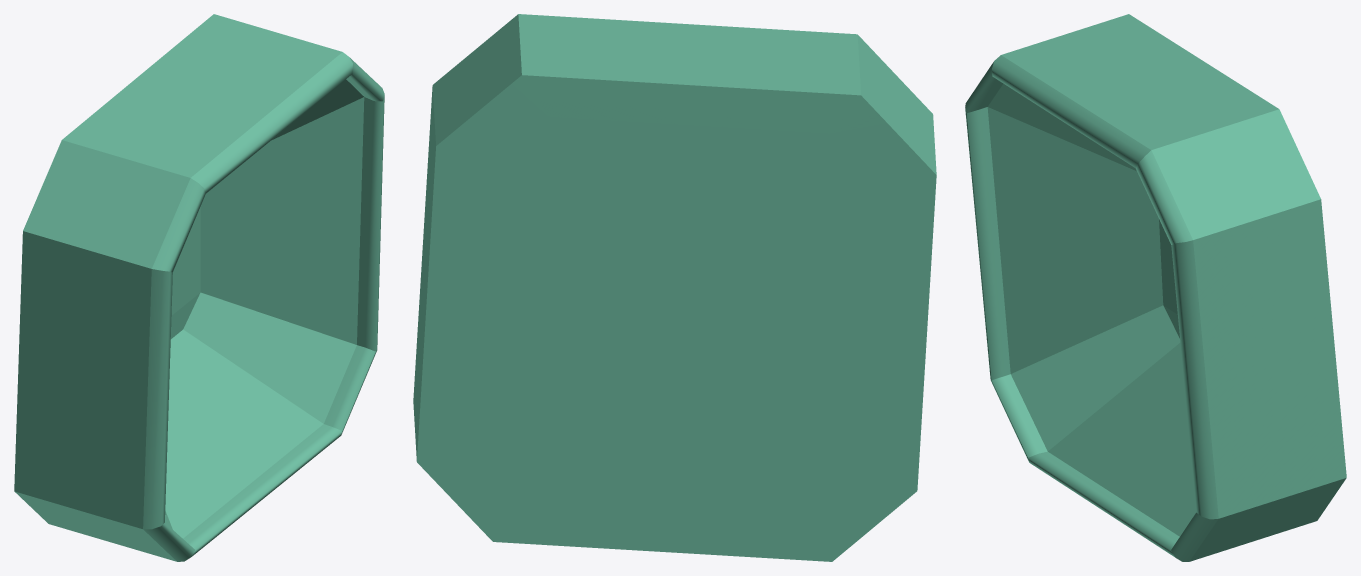
The model's file is TR2_8shapes_Square_Classic_Metal.001 3.glb.
3 views of the same model, side by side, from view 1: azimuth 30°, elevation 25°; view 2: azimuth 150°, elevation 25°; view 3: azimuth 270°, elevation 25° (orthographic). The views are drawn at different scales.
Parts seen in each view (by area): view 1: TR2_8shapes_Square_Classic_Metal.001; view 2: TR2_8shapes_Square_Classic_Metal.001; view 3: TR2_8shapes_Square_Classic_Metal.001.
Boxes of the visible parts, left/top/right/bottom form: TR2_8shapes_Square_Classic_Metal.001: left=14, top=14, right=384, bottom=561; TR2_8shapes_Square_Classic_Metal.001: left=413, top=14, right=936, bottom=561; TR2_8shapes_Square_Classic_Metal.001: left=965, top=14, right=1346, bottom=561.
Bounding box in the file's own units: 0.5825 × 0.5817 × 0.4651.
